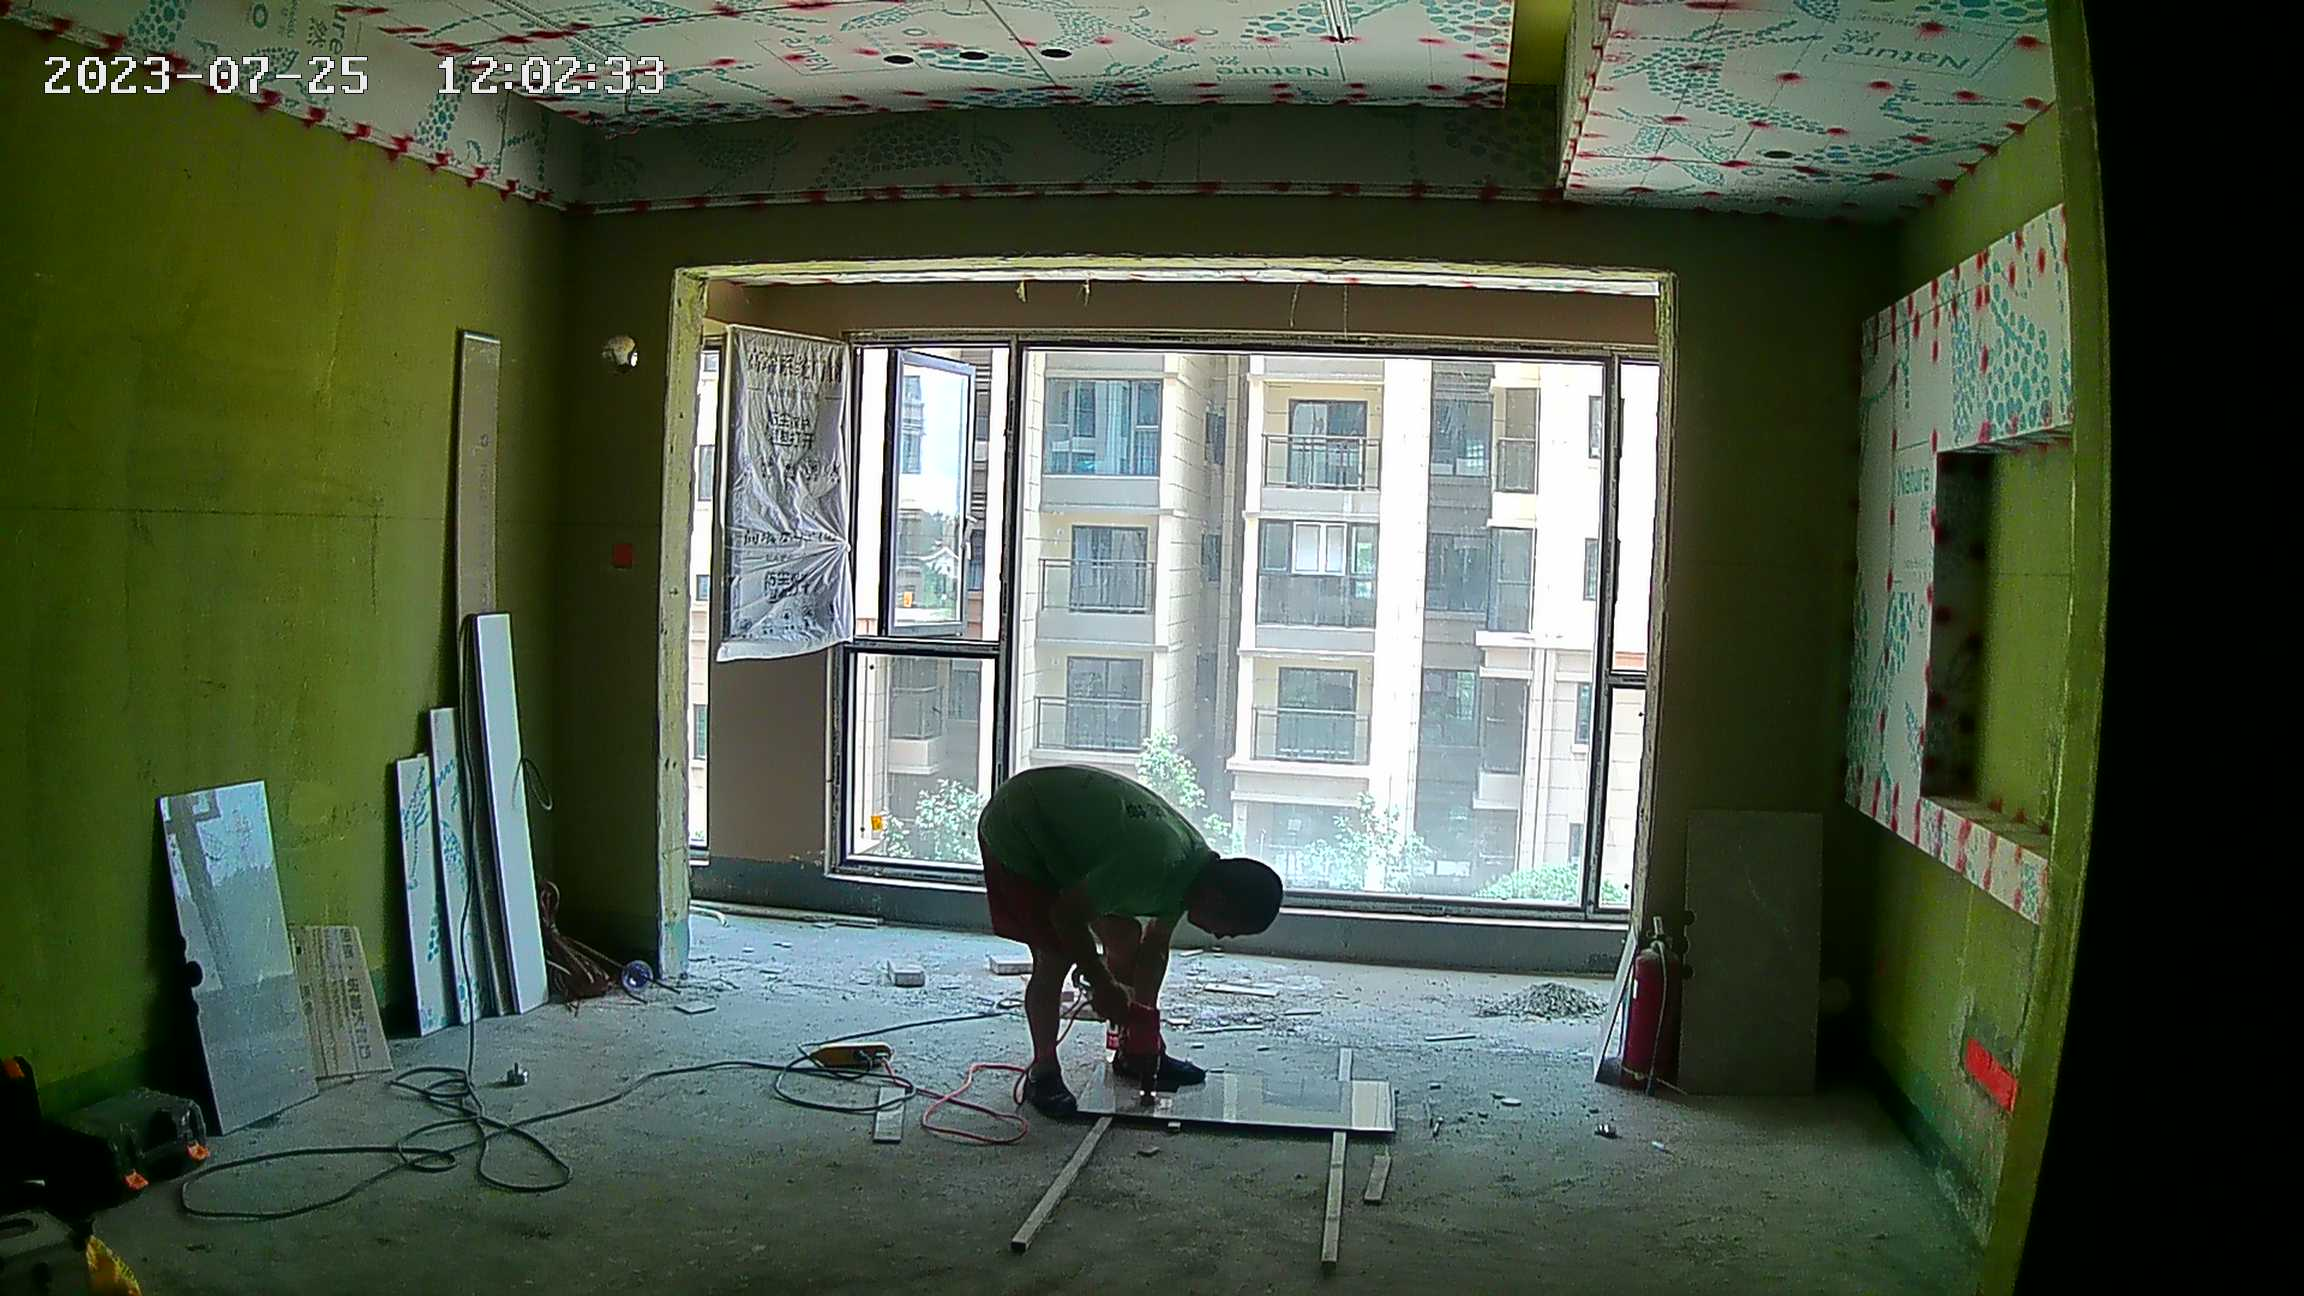people: (976, 765, 1285, 1110)
window: (852, 347, 1637, 919)
